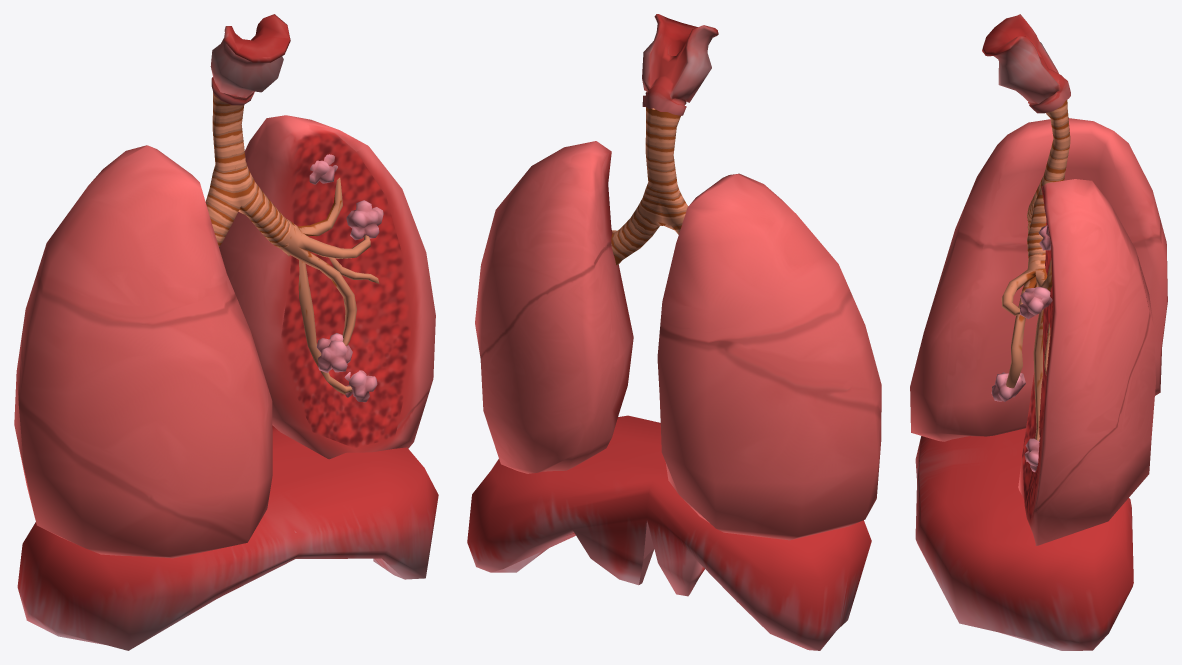
The model's file is respiratorio.fbx.
3 renders of one model, left to right at view 1: azimuth 30°, elevation 25°; view 2: azimuth 150°, elevation 25°; view 3: azimuth 270°, elevation 25°, orthographic. The views are drawn at different scales.
Visible parts, largest first — view 1: Sphere.001, Cube, Cylinder, Cylinder.003, Cube.007; view 2: Sphere.001, Cube, Cylinder, Cylinder.003; view 3: Sphere.001, Cube, Cylinder, Cylinder.003, Cube.007.
Part boxes in pixels (x1,y1,x2,y2): Sphere.001: (14, 115, 435, 558); Cube: (17, 425, 438, 650); Cylinder: (205, 92, 379, 394); Cylinder.003: (210, 14, 290, 105); Cube.007: (309, 154, 383, 402); Sphere.001: (475, 141, 881, 540); Cube: (467, 415, 871, 650); Cylinder: (611, 107, 688, 265); Cylinder.003: (642, 14, 718, 115); Sphere.001: (910, 118, 1167, 545); Cube: (915, 428, 1133, 650); Cylinder: (1001, 100, 1070, 440); Cylinder.003: (982, 14, 1070, 113); Cube.007: (991, 225, 1052, 472).
Bounding box in the file's own units: 40.42 × 55.08 × 23.14.
